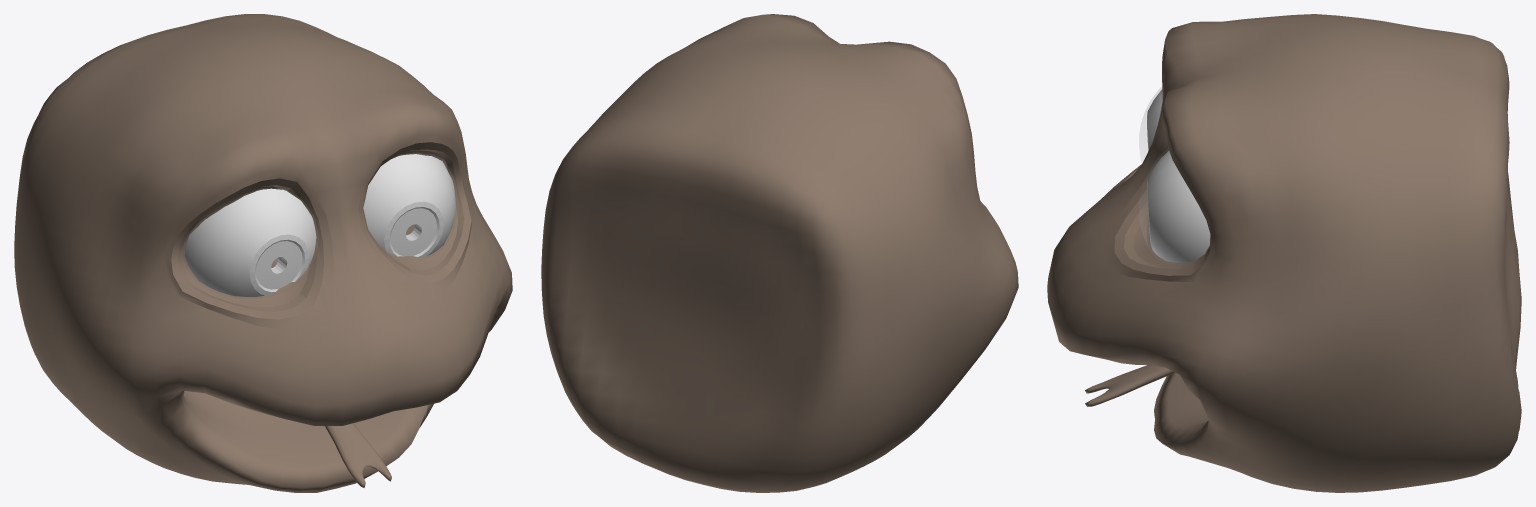
Rendered from snakeHead.fbx.
3 renders of one model, left to right at view 1: azimuth 30°, elevation 25°; view 2: azimuth 150°, elevation 25°; view 3: azimuth 270°, elevation 25°, orthographic. The views are drawn at different scales.
Parts seen in each view (by area): view 1: head_GEO, r_sclera_GEO, l_sclera_GEO; view 2: head_GEO; view 3: head_GEO, l_sclera_GEO, r_sclera_GEO.
Boxes of the visible parts, x1,y1,x2,y2 form: head_GEO: [14, 14, 512, 492]; r_sclera_GEO: [184, 188, 316, 296]; l_sclera_GEO: [363, 154, 455, 256]; head_GEO: [541, 14, 1018, 492]; head_GEO: [1047, 14, 1521, 492]; l_sclera_GEO: [1147, 150, 1210, 262]; r_sclera_GEO: [1147, 89, 1162, 150].
Bounding box in the file's own units: 0.8558 × 0.8417 × 0.8529.
